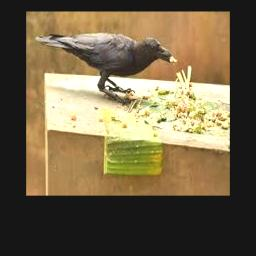Crow: (34, 32, 174, 97)
